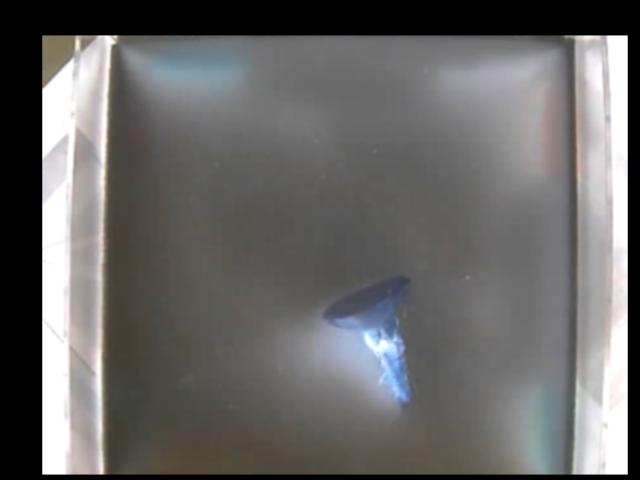Mooli: (324, 276, 416, 404)
